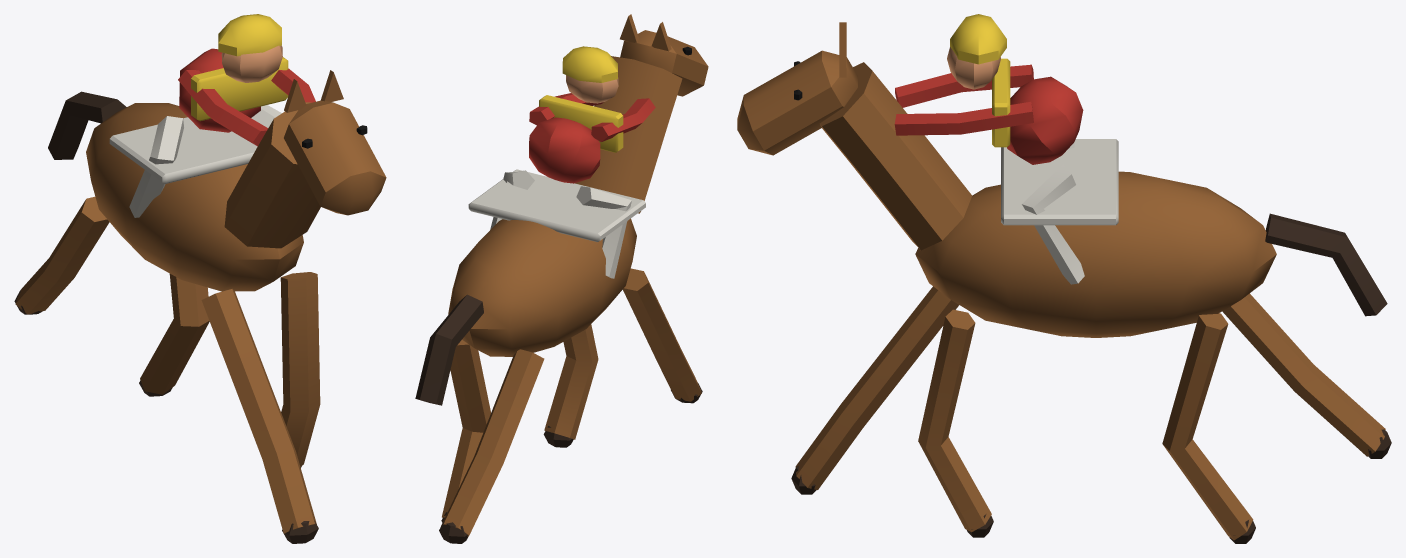
File: 150_cheval_jockey.fbx
3 views of the same model, side by side, from view 1: azimuth 30°, elevation 25°; view 2: azimuth 150°, elevation 25°; view 3: azimuth 270°, elevation 25° (orthographic). The views are drawn at different scales.
Visible parts, largest first — view 1: Cheval, Jockey; view 2: Cheval, Jockey; view 3: Cheval, Jockey.
Part boxes in pixels (bbox=[...]): Cheval: bbox=[14, 70, 386, 543]; Jockey: bbox=[129, 14, 315, 217]; Cheval: bbox=[415, 14, 708, 543]; Jockey: bbox=[490, 46, 655, 278]; Cheval: bbox=[737, 22, 1391, 543]; Jockey: bbox=[894, 14, 1084, 284].
Size of the model in its own units: 0.56 by 1.68 by 1.96.
1 material, 1 textured.
